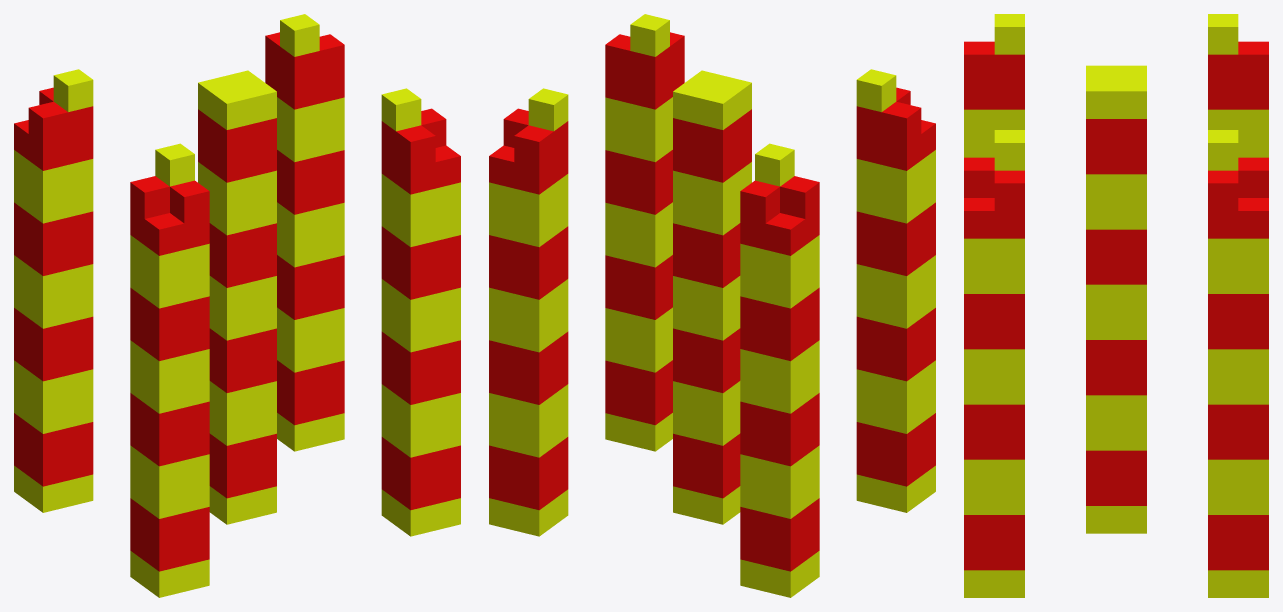
File: Pinchos.obj
3 renders of one model, left to right at view 1: azimuth 30°, elevation 25°; view 2: azimuth 150°, elevation 25°; view 3: azimuth 270°, elevation 25°, orthographic. The views are drawn at different scales.
Size of the model in its own units: 1.2 by 1.6 by 1.
1 material, 1 textured.
